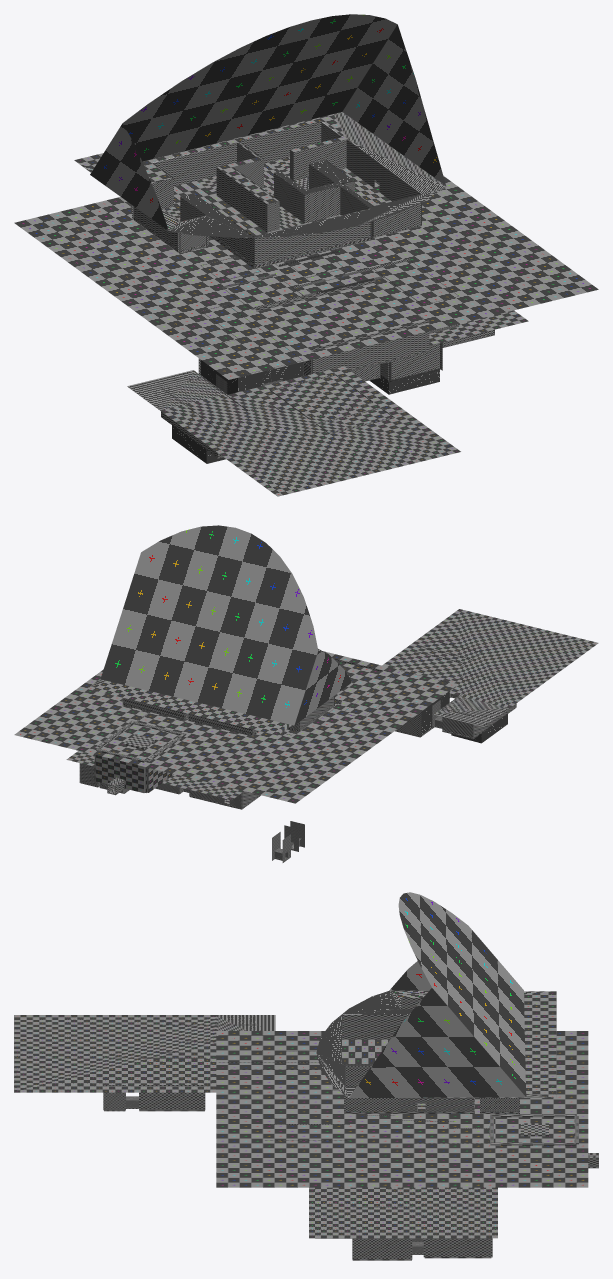
Rendered from StoneTowerUntextured.glb.
3 views of the same model, one above another, from view 1: azimuth 30°, elevation 25°; view 2: azimuth 150°, elevation 25°; view 3: azimuth 270°, elevation 25° (orthographic). The views are drawn at different scales.
Visible parts, largest first — view 1: Ceiling -col.195, Cone, Ceiling -col.308, Ceiling -col.052, Ceiling -col.309, Wall -col.231, Wall -col.041, Wall -col.049, Wall -col.030, Wall -col.048, Floor -col.026, Ceiling -col.196 (+11 smaller); view 2: Cone, Ceiling -col.195, Ceiling -col.308, Ceiling -col.309, Ceiling -col.052, Wall -col.007, Ceiling -col.196, Wall -col.005, Wall -col.299, Floor -col.102, Wall -col.261; view 3: Ceiling -col.195, Cone, Ceiling -col.308, Ceiling -col.196, Ceiling -col.052, Ceiling -col.309, Ceiling -col.311, Wall -col.052, Wall -col.147, Wall -col.142, Wall -col.294, Wall -col.024 (+3 smaller).
Boxes of the visible parts, box(x1,y1,x2,y2) form: Ceiling -col.195: box(14, 176, 598, 379); Cone: box(90, 14, 445, 230); Ceiling -col.308: box(127, 366, 460, 496); Ceiling -col.052: box(74, 112, 446, 237); Ceiling -col.309: box(128, 367, 460, 487); Wall -col.231: box(311, 320, 429, 374); Wall -col.041: box(254, 208, 371, 264); Wall -col.049: box(152, 142, 237, 186); Wall -col.030: box(239, 121, 321, 163); Wall -col.048: box(216, 167, 267, 232); Floor -col.026: box(174, 181, 266, 245); Ceiling -col.196: box(429, 310, 528, 345); Cone: box(100, 525, 351, 725); Ceiling -col.195: box(14, 651, 458, 803); Ceiling -col.308: box(382, 609, 598, 726); Ceiling -col.309: box(384, 610, 594, 725); Ceiling -col.052: box(87, 649, 351, 735); Wall -col.007: box(96, 748, 145, 792); Ceiling -col.196: box(66, 750, 243, 799); Wall -col.005: box(145, 733, 186, 792); Wall -col.299: box(442, 708, 473, 737); Floor -col.102: box(442, 707, 516, 743); Wall -col.261: box(421, 685, 449, 734); Ceiling -col.195: box(216, 1031, 588, 1187); Cone: box(349, 892, 526, 1098); Ceiling -col.308: box(14, 1015, 275, 1092); Ceiling -col.196: box(309, 1187, 497, 1238); Ceiling -col.052: box(316, 990, 556, 1097); Ceiling -col.309: box(14, 1015, 274, 1092); Ceiling -col.311: box(309, 1187, 497, 1238); Wall -col.052: box(341, 1015, 408, 1039); Wall -col.147: box(352, 1238, 412, 1259); Wall -col.142: box(423, 1238, 492, 1257); Wall -col.294: box(139, 1085, 205, 1109); Wall -col.024: box(399, 1098, 474, 1111).
Size of the model in its own units: 207 by 183 by 277.
13 materials, 13 textured.
